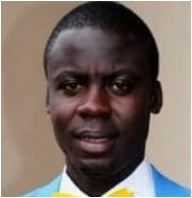without_facemask: (51, 105, 140, 172)
